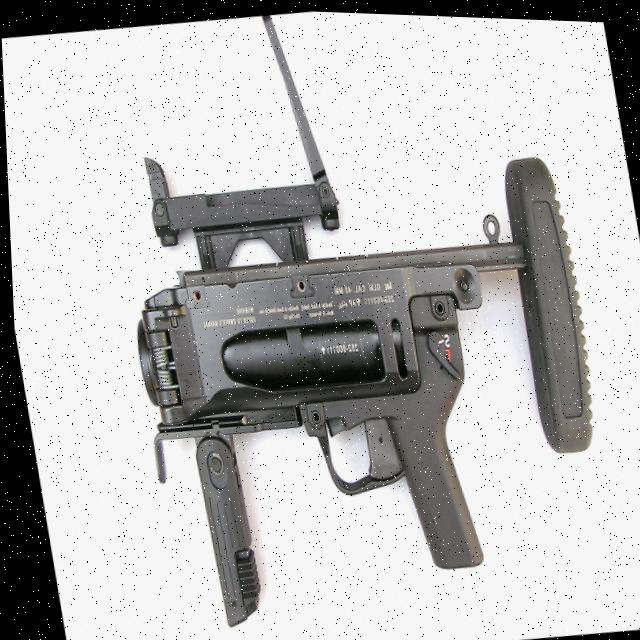rocket: (104, 129, 625, 640)
